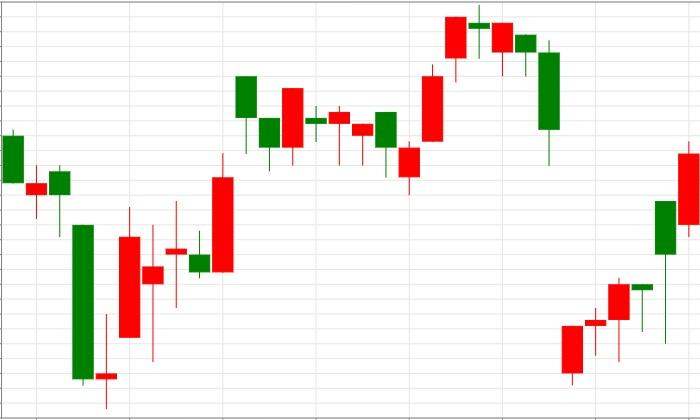morning_star_rise: (3, 128, 140, 409)
